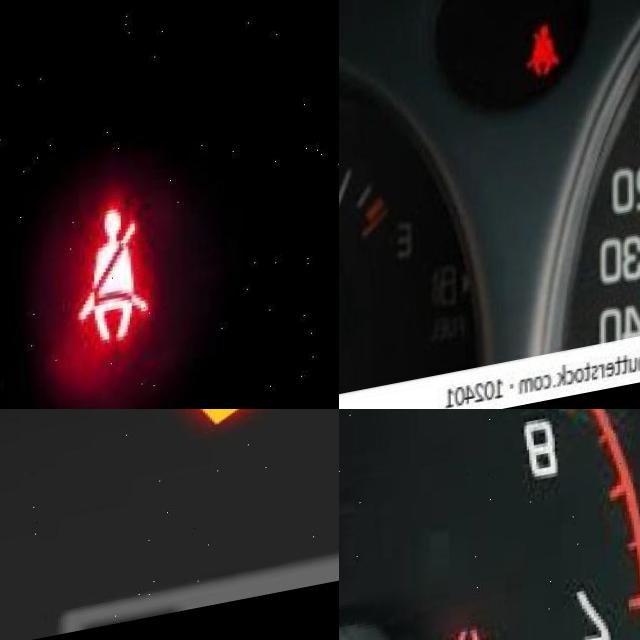Seat Belt: (75, 206, 147, 352), (524, 35, 560, 91)
